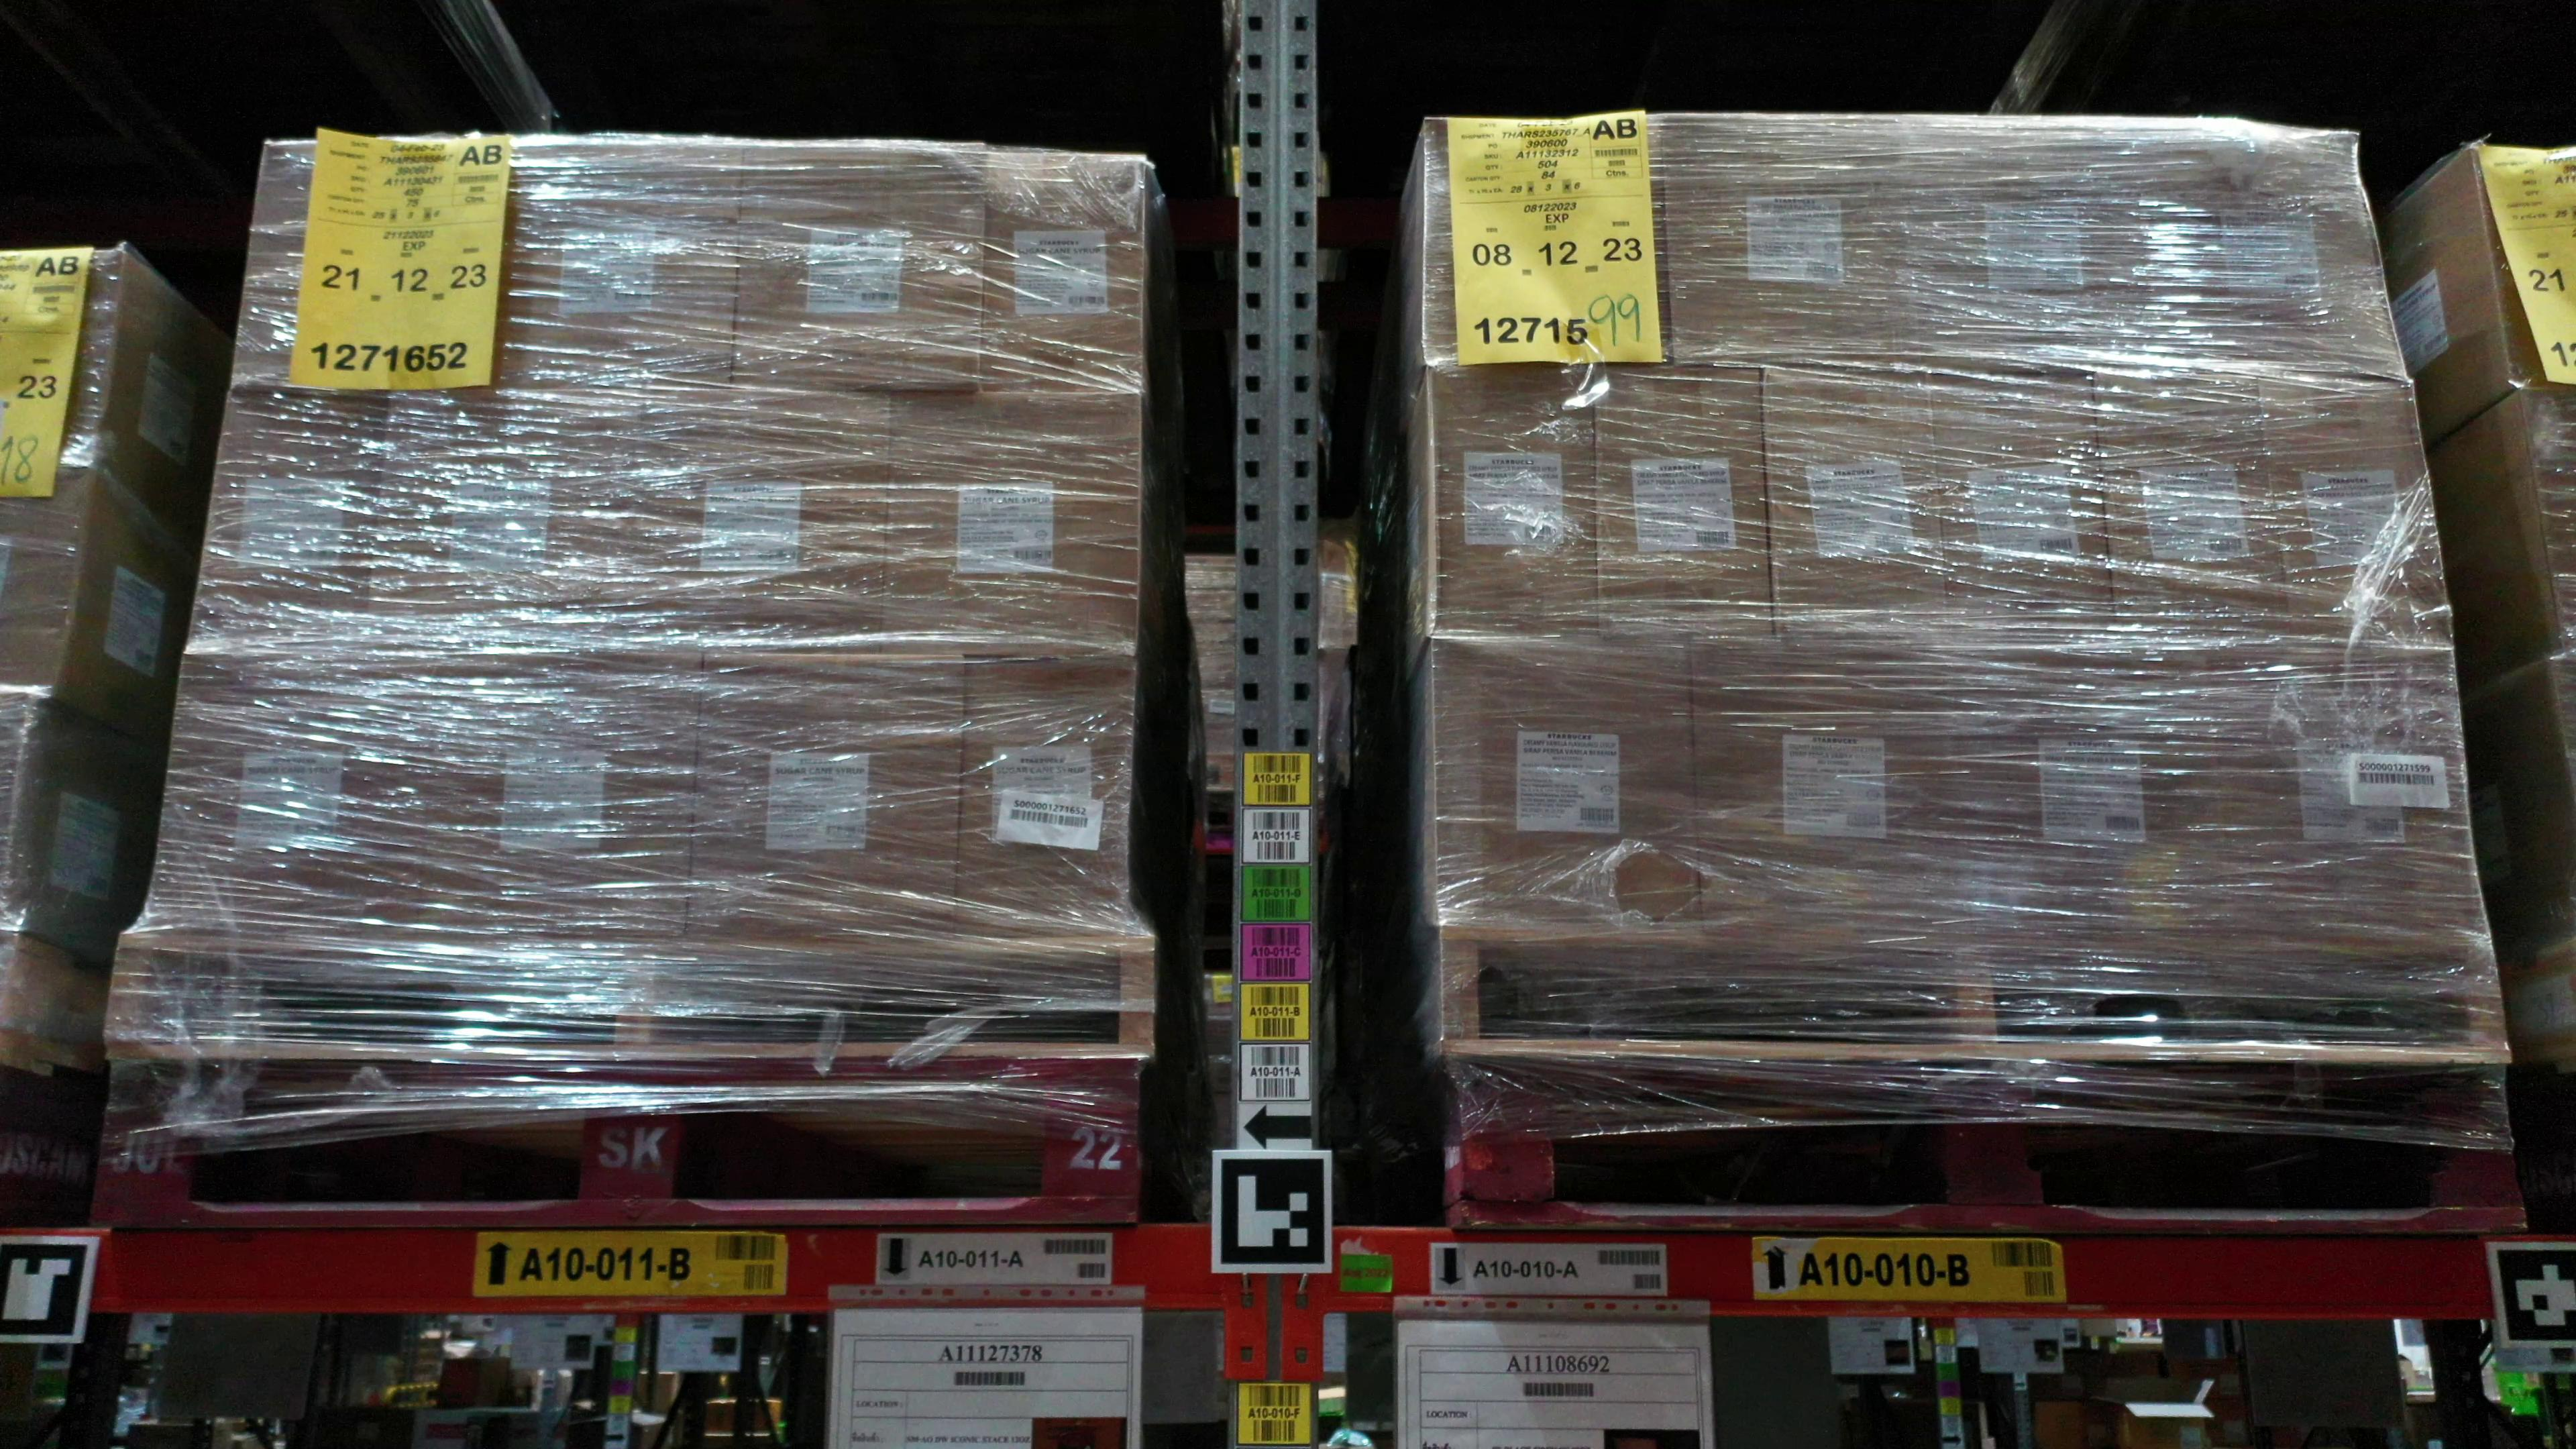-: (136, 655, 436, 948), (2212, 642, 2489, 948), (414, 655, 702, 944), (682, 651, 966, 941), (1431, 635, 1706, 930), (1954, 642, 2229, 937), (1688, 639, 1966, 930), (454, 125, 745, 389), (615, 387, 894, 655), (2125, 121, 2404, 384), (367, 387, 635, 655), (885, 394, 1142, 662), (729, 136, 988, 394), (1662, 114, 1923, 367), (1900, 119, 2155, 369), (1422, 119, 1672, 364), (233, 139, 474, 389), (1764, 360, 1957, 639), (2093, 367, 2290, 635), (193, 394, 394, 653), (1932, 364, 2118, 642), (2256, 374, 2447, 639), (1599, 364, 1778, 637), (1429, 364, 1608, 635), (955, 662, 1132, 932), (977, 146, 1152, 394), (0, 248, 125, 474), (2473, 146, 2576, 394), (0, 474, 99, 702), (2520, 394, 2576, 653)
